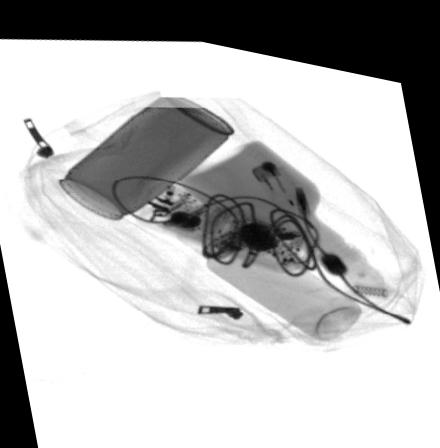Lighter: (248, 148, 324, 223)
Sprayer: (154, 186, 361, 329)
